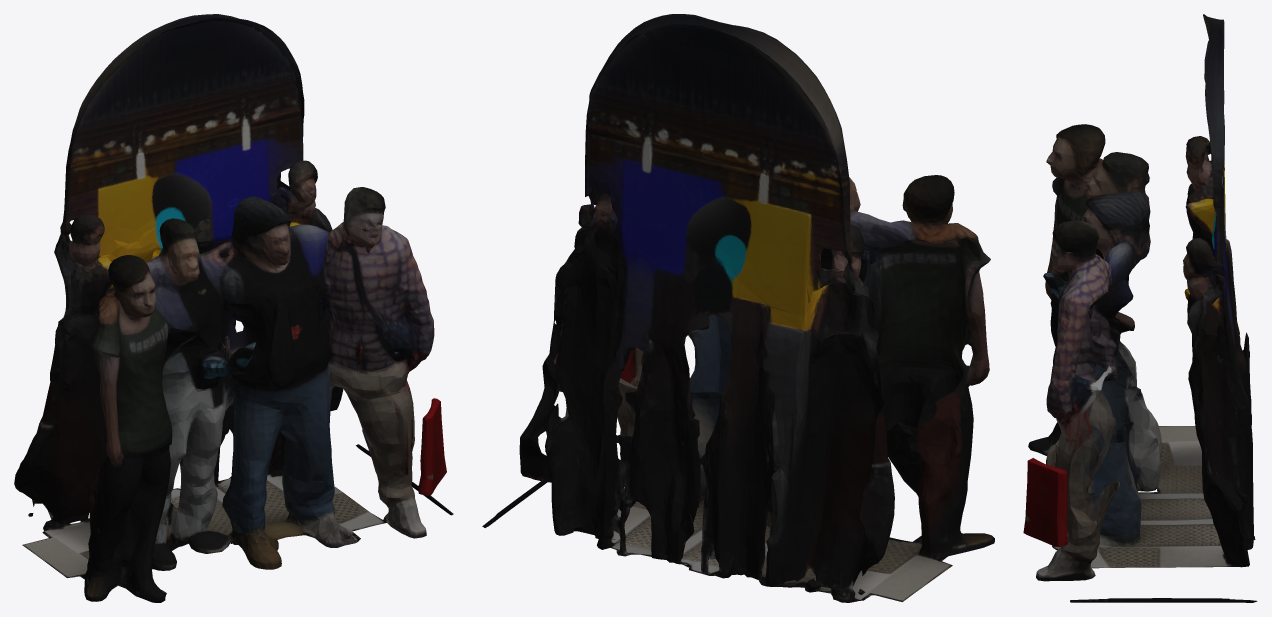
File: bro.glb
The picture shows the model from 3 angles, left to right: view 1: azimuth 30°, elevation 25°; view 2: azimuth 150°, elevation 25°; view 3: azimuth 270°, elevation 25°; orthographic projection. The views are drawn at different scales.
Parts seen in each view (by area): view 1: world; view 2: world; view 3: world.
Part boxes in pixels (x1,y1,x2,y2): world: (14,14,453,602); world: (482,14,994,602); world: (1023,14,1257,602).
Size of the model in its own units: 0.7912 by 1 by 0.4421.
1 material, 1 textured.
